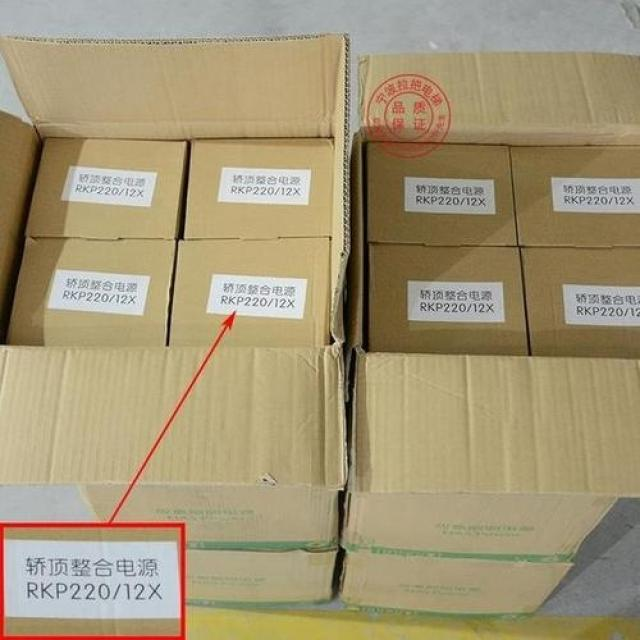box: (0, 34, 347, 605), (336, 54, 639, 622), (5, 237, 180, 347), (363, 244, 526, 351), (169, 237, 330, 345), (30, 135, 193, 237), (364, 145, 519, 245), (186, 138, 334, 240), (517, 244, 637, 353), (510, 145, 639, 246)
